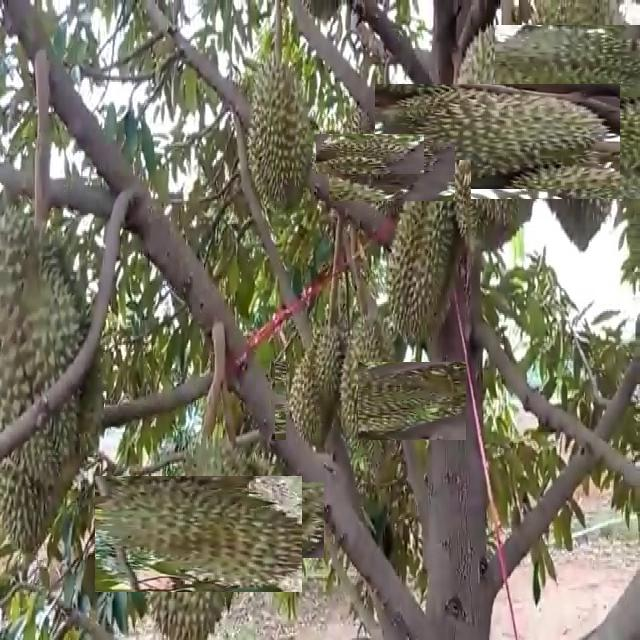durian: (1, 198, 87, 558), (409, 49, 585, 224), (118, 453, 280, 615), (495, 68, 640, 226), (508, 12, 640, 154), (303, 334, 439, 469), (381, 160, 471, 354), (246, 52, 316, 219), (201, 466, 308, 573), (286, 322, 358, 452), (345, 125, 438, 218), (321, 113, 404, 194)
